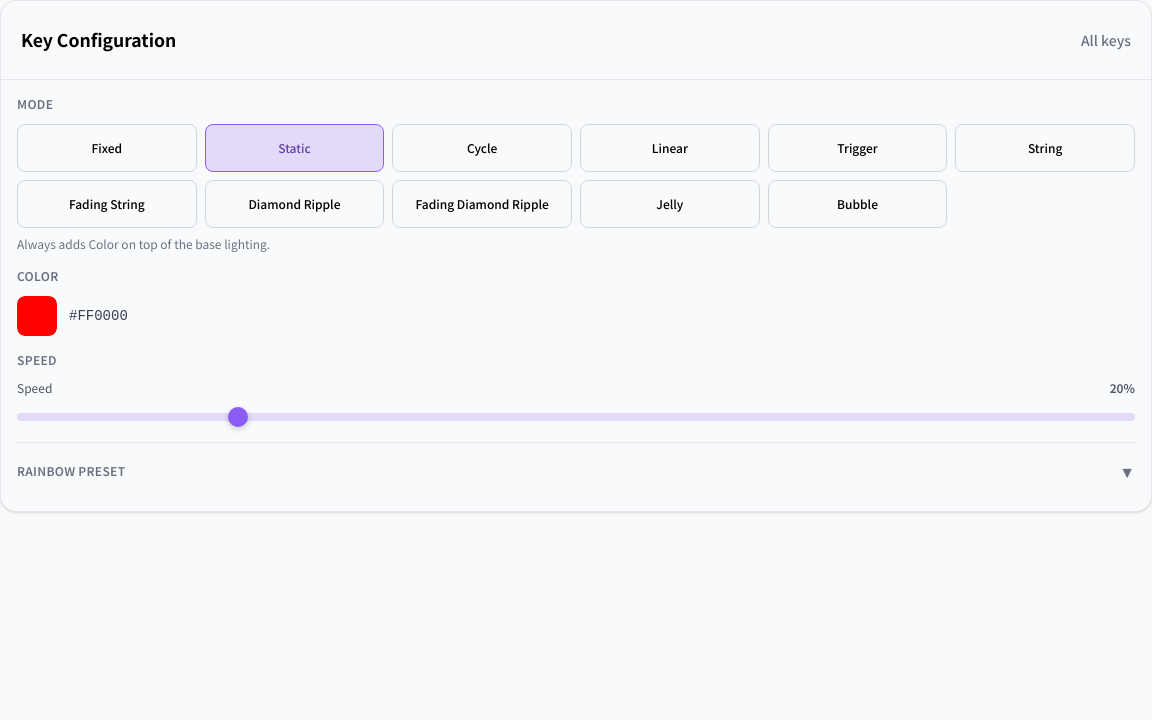
Scenario: RGBSubPanel › opens and closes the rainbow preset
Check: the button "Apply Settings" is not shown
Click the button "Rainbow Preset ▼". click: [71, 470]
box: top-left (17, 459), bottom-right (1135, 483)
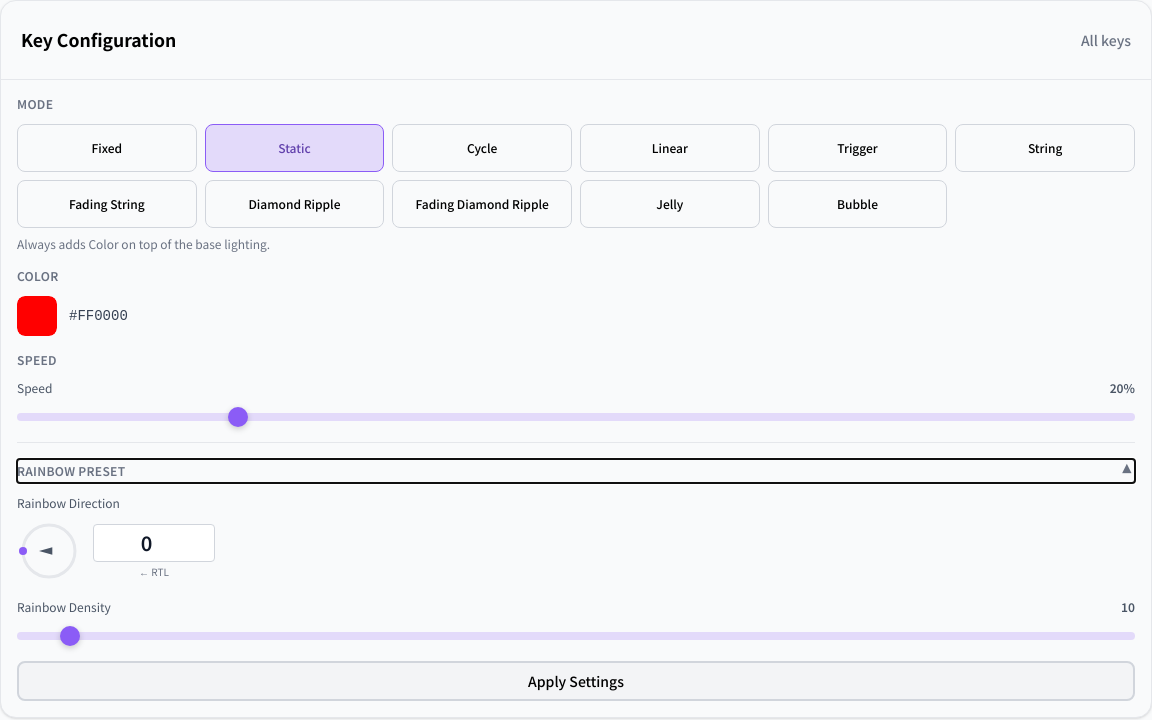
Check: the button "Rainbow Preset ▼" is expanded
Check: the text "Rainbow Direction" is shown, box top-left (17, 494), bottom-right (120, 511)
Check: the number field named "Rainbow Direction" holds "0", box top-left (93, 524), bottom-right (215, 562)
Click the button "Rainbow Preset ▼". click: [71, 470]
box: top-left (17, 459), bottom-right (1135, 483)
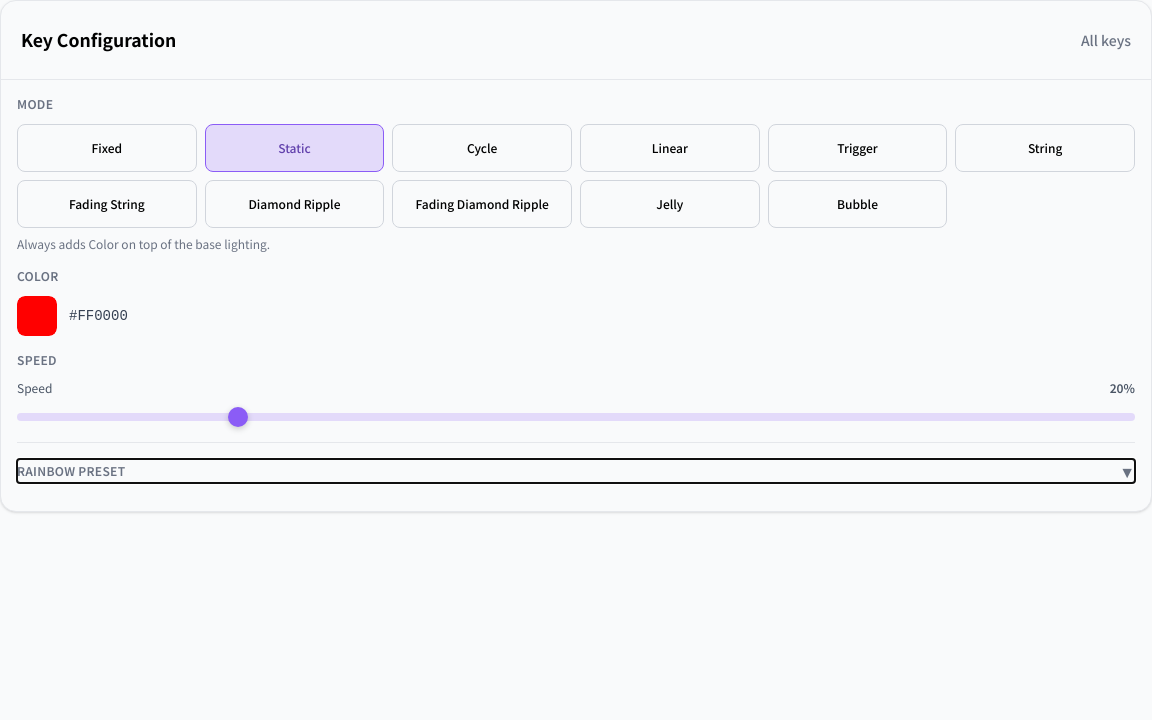
Check: the button "Apply Settings" is gone
